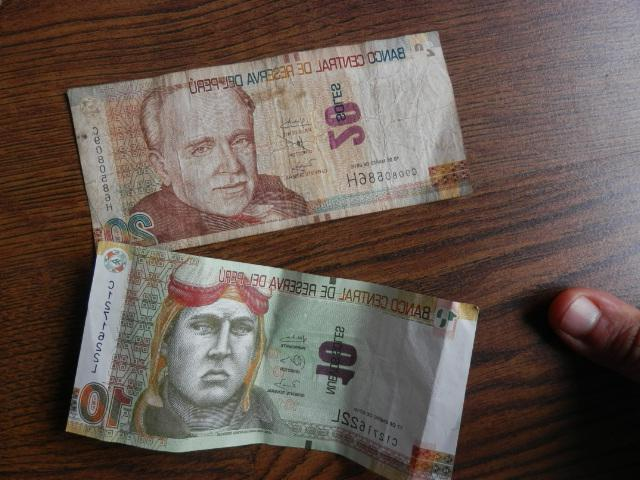B10: (74, 243, 476, 480)
B20: (68, 33, 470, 245)
